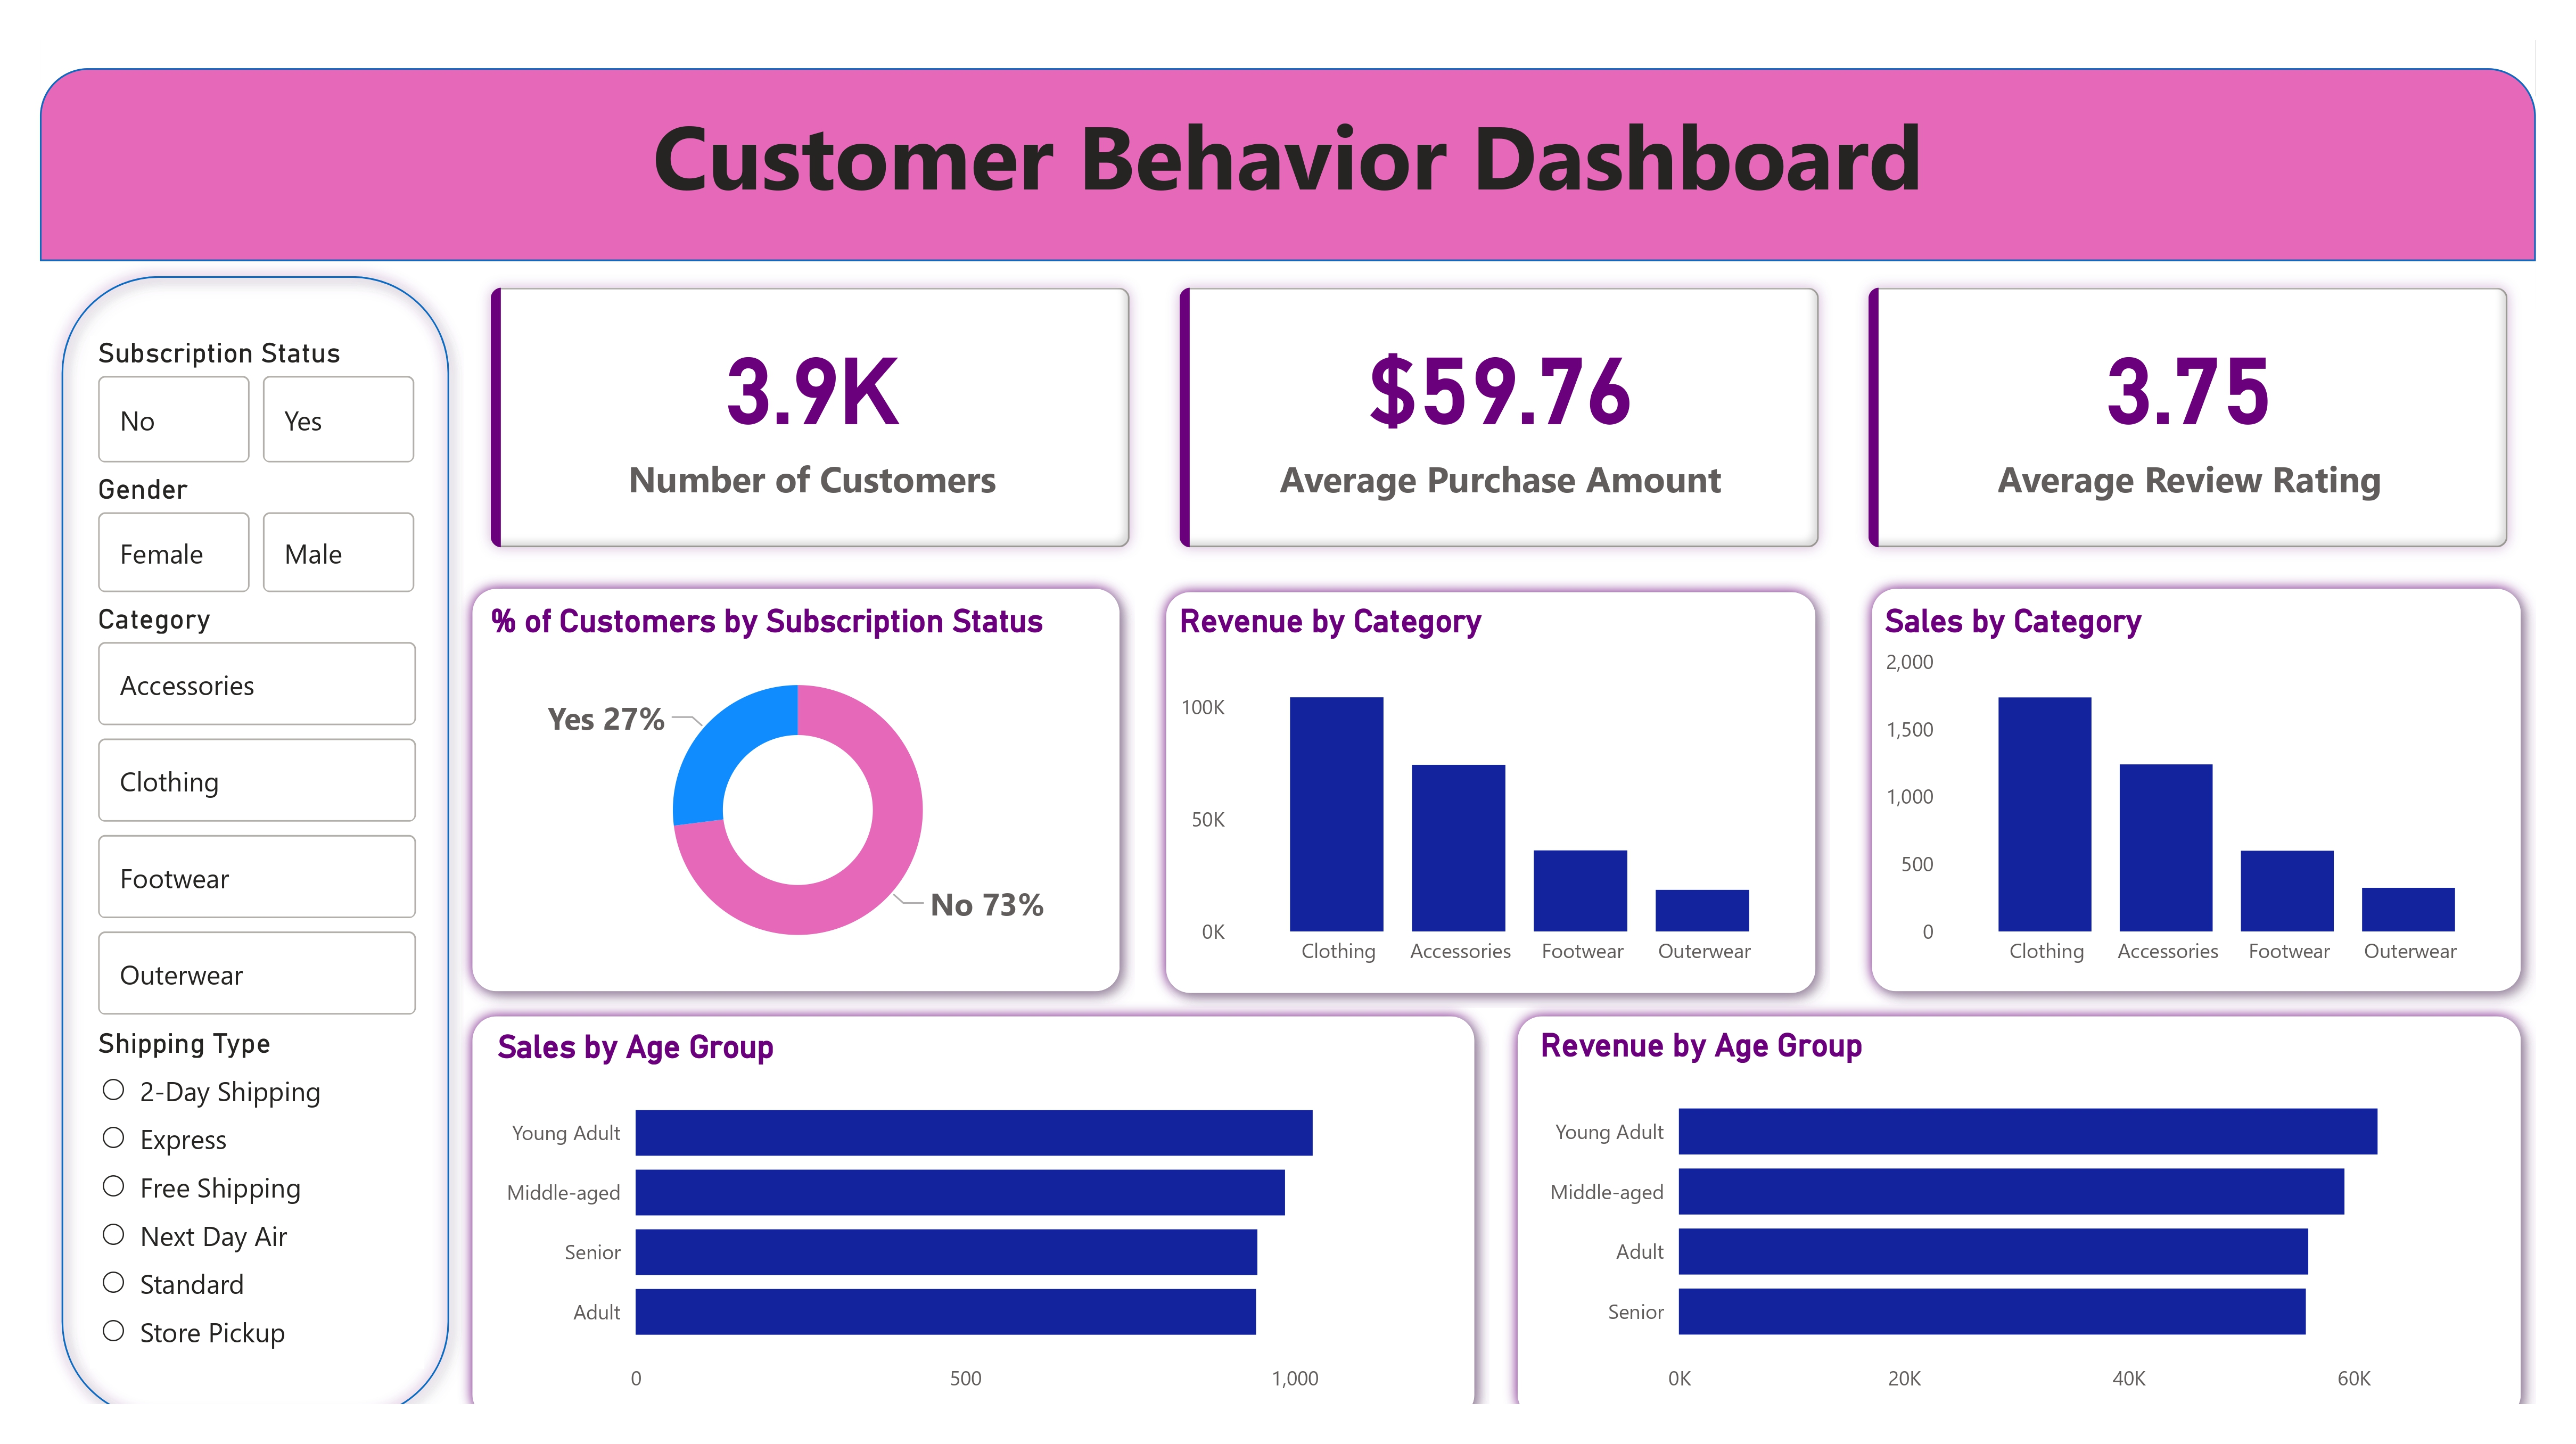

The page's visual inventory and layout, read from the dashboard file:
{"tool":"powerbi","page":{"name":"Customer Behavior Dashboard","canvas":[1500,820],"ordinal":0},"visuals":[{"type":"cardVisual","fields":{"Data":["public customer.Number of Customers","public customer.Average Purchase Amount","public customer.Average Review Rating"]},"box":[255.1,116.4,1244.4,188],"z":0},{"type":"shape","box":[0,0,1499.5,116.4],"z":1000},{"type":"textbox","box":[0,10.4,1499.5,105.9],"z":2000},{"type":"shape","box":[250.7,304.4,407.3,259.6],"z":3000},{"type":"donutChart","title":"% of Customers by Subscription Status","fields":{"Category":["public customer.subscription_status"],"Y":["CountNonNull(public customer.customer_id)"]},"box":[265.6,320.8,379,228.3],"z":4000},{"type":"shape","box":[668.4,305.9,407.3,259.6],"z":5000},{"type":"shape","box":[1092.2,304.4,407.3,259.6],"z":6000},{"type":"clusteredColumnChart","title":"Revenue by Category","fields":{"Category":["public customer.category"],"Y":["Sum(public customer.purchase_amount)"]},"box":[680.4,320.8,383.5,228.3],"z":7000},{"type":"clusteredColumnChart","title":"Sales by Category","fields":{"Category":["public customer.category"],"Y":["CountNonNull(public customer.customer_id)"]},"box":[1104.1,320.8,383.5,228.3],"z":8000},{"type":"shape","box":[4.5,116.4,250.7,704.2],"z":9000},{"type":"advancedSlicerVisual","title":"Subscription Status","fields":{"Values":["public customer.subscription_status"]},"box":[29.8,161.1,201.4,82.1],"z":10000},{"type":"advancedSlicerVisual","title":"Gender","fields":{"Values":["public customer.gender"]},"box":[29.8,243.2,201.4,77.6],"z":11000},{"type":"advancedSlicerVisual","title":"Category","fields":{"Values":["public customer.category"]},"box":[29.8,320.8,201.4,255.1],"z":12000},{"type":"listSlicer","title":"Shipping Type","fields":{"Values":["public customer.shipping_type"]},"box":[29.8,575.9,201.4,205.9],"z":13000},{"type":"shape","box":[878.8,561,620.7,259.6],"z":14000},{"type":"shape","box":[250.7,561,620.7,259.6],"z":15000},{"type":"clusteredBarChart","title":"Sales by Age Group","fields":{"Y":["CountNonNull(public customer.customer_id)"],"Category":["public customer.age_group"]},"box":[270.1,577.4,583.4,228.3],"z":16000},{"type":"clusteredBarChart","title":"Revenue by Age Group","fields":{"Y":["Sum(public customer.purchase_amount)"],"Category":["public customer.age_group"]},"box":[896.7,575.9,575.9,229.8],"z":17000}]}

Visuals, with their boxes in screenshot pixels (x1, y1, x2, y2):
cardVisual - public customer.Number of Customers x public customer.Average Purchase Amount: x1=464 y1=234 x2=2535 y2=546
shape: x1=40 y1=40 x2=2535 y2=234
textbox: x1=40 y1=57 x2=2535 y2=234
shape: x1=457 y1=546 x2=1135 y2=978
"% of Customers by Subscription Status" donutChart: x1=482 y1=574 x2=1113 y2=953
shape: x1=1152 y1=549 x2=1830 y2=981
shape: x1=1857 y1=546 x2=2535 y2=978
"Revenue by Category" clusteredColumnChart: x1=1172 y1=574 x2=1810 y2=953
"Sales by Category" clusteredColumnChart: x1=1877 y1=574 x2=2515 y2=953
shape: x1=47 y1=234 x2=465 y2=1404
"Subscription Status" advancedSlicerVisual: x1=89 y1=308 x2=425 y2=444
"Gender" advancedSlicerVisual: x1=89 y1=444 x2=425 y2=574
"Category" advancedSlicerVisual: x1=89 y1=574 x2=425 y2=998
"Shipping Type" listSlicer: x1=89 y1=998 x2=425 y2=1341
shape: x1=1502 y1=973 x2=2535 y2=1404
shape: x1=457 y1=973 x2=1490 y2=1404
"Sales by Age Group" clusteredBarChart: x1=489 y1=1001 x2=1460 y2=1380
"Revenue by Age Group" clusteredBarChart: x1=1532 y1=998 x2=2490 y2=1380
